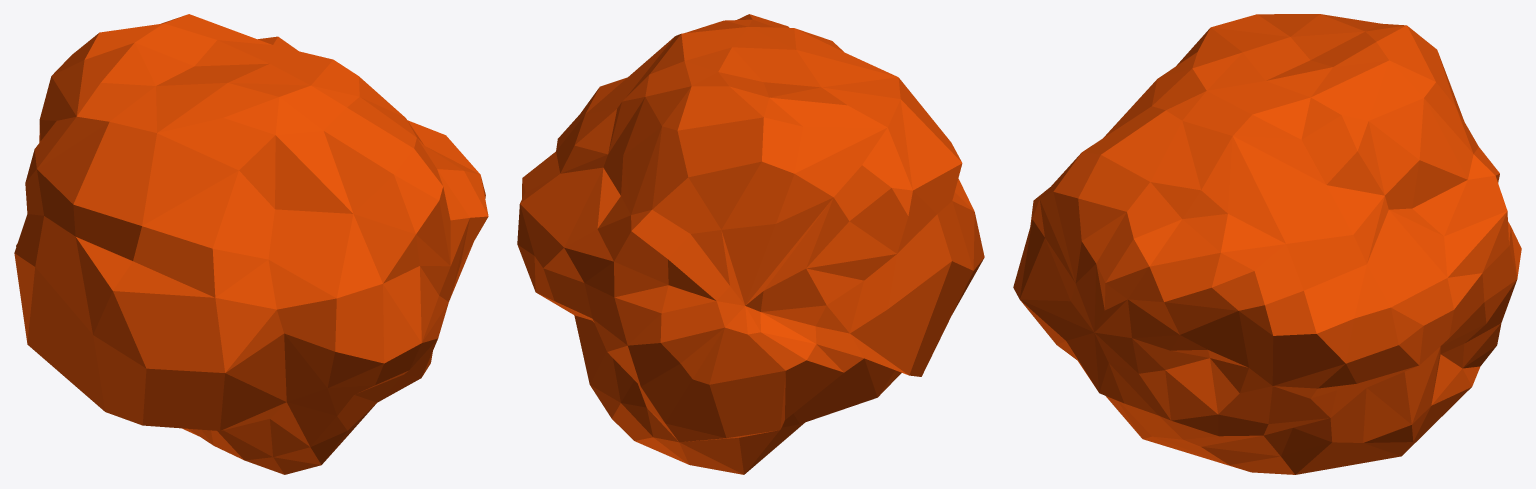
File: PlanetCollider.glb
3 renders of one model, left to right at view 1: azimuth 30°, elevation 25°; view 2: azimuth 150°, elevation 25°; view 3: azimuth 270°, elevation 25°, orthographic. The views are drawn at different scales.
Visible parts, largest first — view 1: Sphere; view 2: Sphere; view 3: Sphere.
Part boxes in pixels (x1=…): Sphere: x1=14, y1=14, x2=488, y2=474; Sphere: x1=517, y1=14, x2=984, y2=474; Sphere: x1=1013, y1=14, x2=1521, y2=474.
Bounding box in the file's own units: 40.27 × 37.04 × 42.16.
